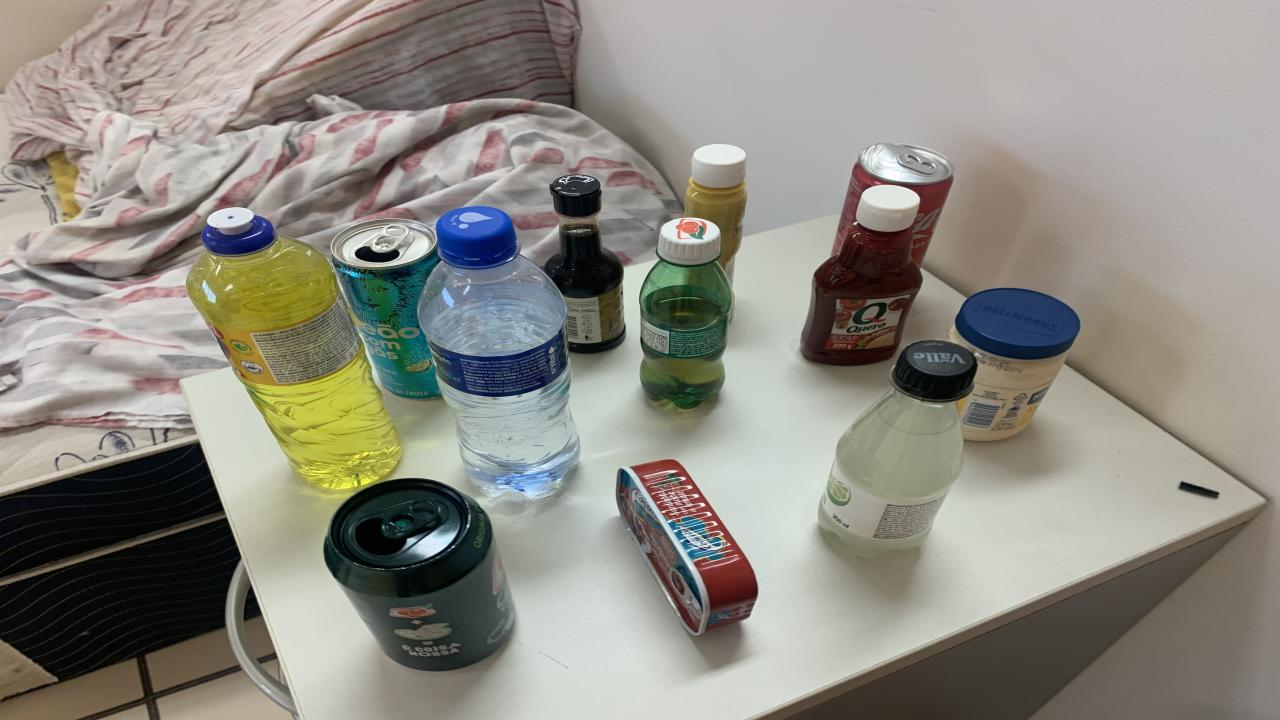Coke-Drinks: (832, 142, 955, 264)
Detergent-Cleanup_Items: (188, 206, 400, 488)
English_Sauce-Pantry_Items: (545, 174, 625, 352)
Guarana-Drinks: (640, 218, 732, 409)
Guarana_Can-Drinks: (325, 478, 515, 671)
Ketchup-Pantry_Items: (800, 186, 922, 366)
Mayonnaise-Pantry_Items: (950, 289, 1080, 441)
Mustard-Pantry_Items: (685, 144, 748, 283)
Soda-Drinks: (818, 339, 978, 555), (685, 486, 688, 488)
Tea-Drinks: (330, 218, 440, 399)
Tuna_Can-Pantry_Items: (615, 459, 758, 636)
Water_Bottle-Drinks: (418, 206, 580, 499)
